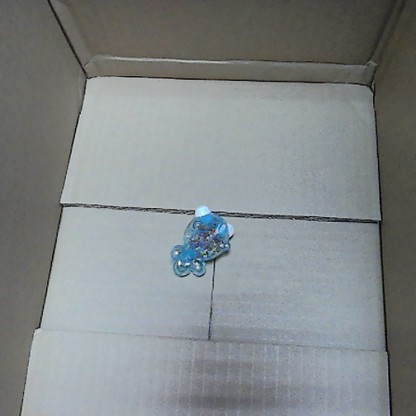bluefish: (165, 201, 236, 276)
